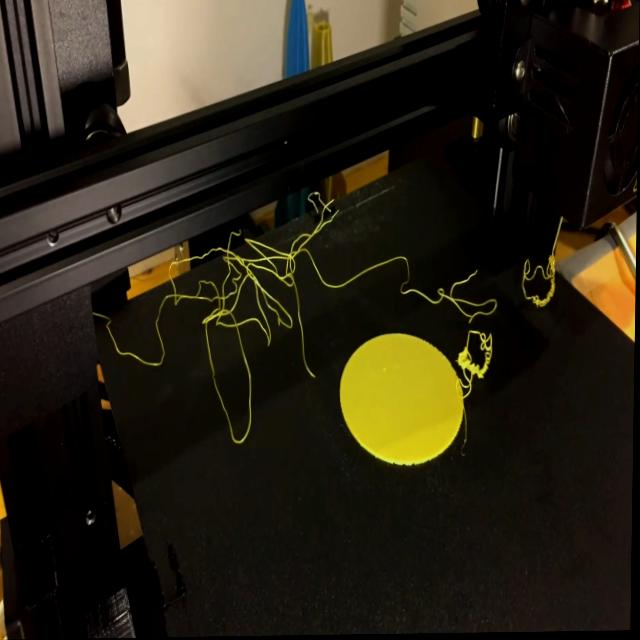spaghetti: (112, 200, 357, 396)
